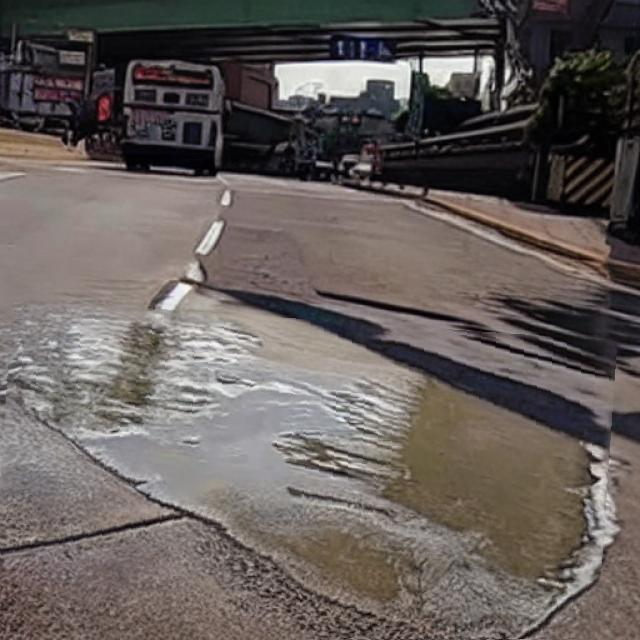puddle: (1, 310, 613, 640)
